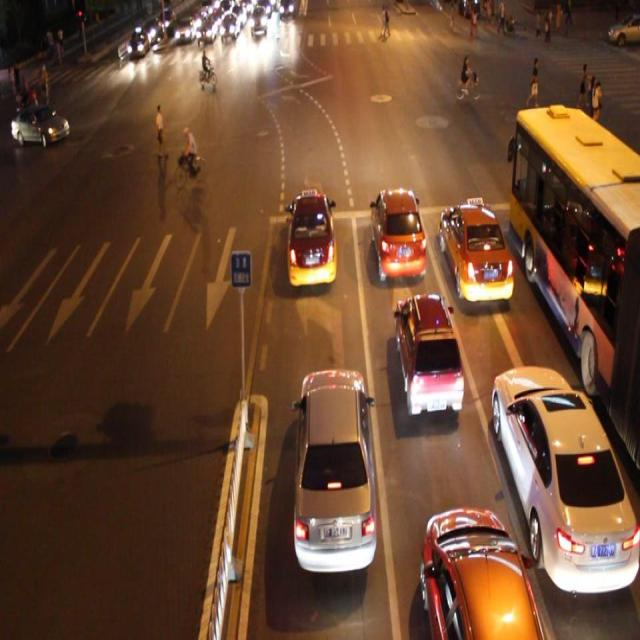car: (490, 364, 640, 595), (294, 363, 375, 569), (422, 506, 542, 640), (393, 294, 462, 416), (439, 198, 513, 302), (372, 185, 425, 278), (284, 190, 336, 284), (11, 104, 71, 148)
van: (512, 106, 640, 466)
